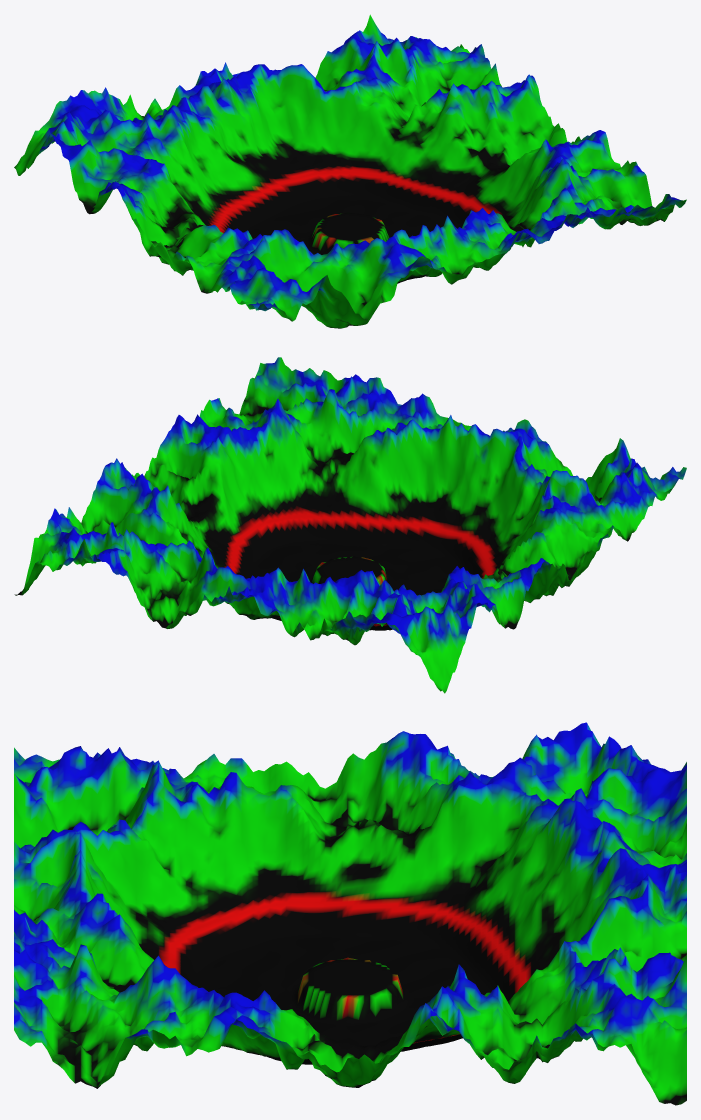
Rendered from LakeTerrain_VeryLow.fbx.
3 views of the same model, one above another, from view 1: azimuth 30°, elevation 25°; view 2: azimuth 150°, elevation 25°; view 3: azimuth 270°, elevation 25° (orthographic). The views are drawn at different scales.
Visible parts, largest first — view 1: Terrain_VeryLow; view 2: Terrain_VeryLow; view 3: Terrain_VeryLow.
Part boxes in pixels (bbox=[...]): Terrain_VeryLow: bbox=[14, 14, 686, 328]; Terrain_VeryLow: bbox=[14, 357, 686, 693]; Terrain_VeryLow: bbox=[14, 722, 686, 1105].
Size of the model in its own units: 400 by 92.87 by 400.
